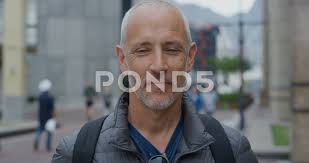white_male: (126, 19, 186, 123)
